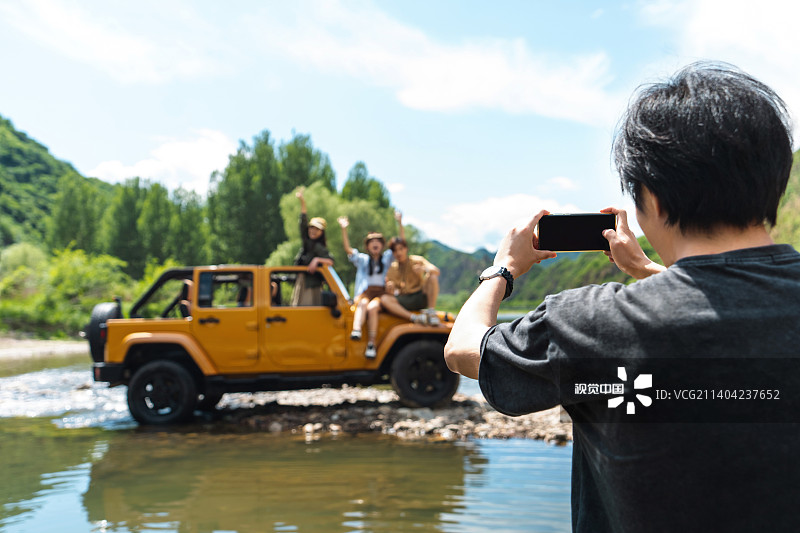taking photos: (470, 197, 576, 283), (560, 197, 657, 280)
